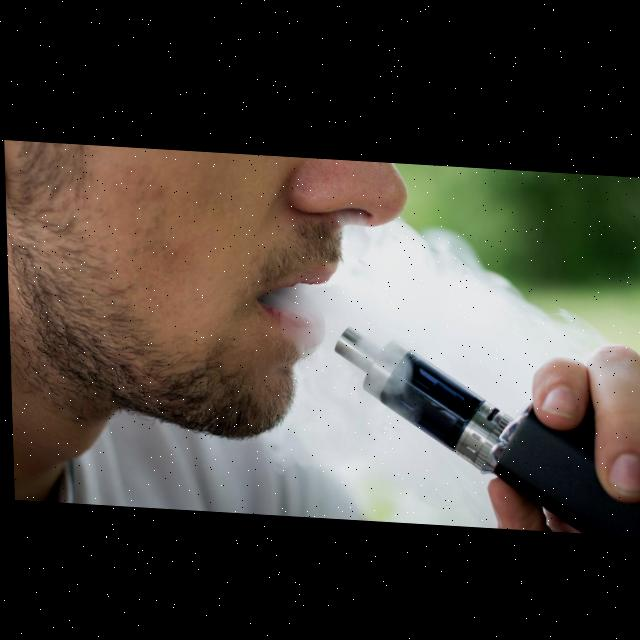vape: (332, 320, 640, 529)
